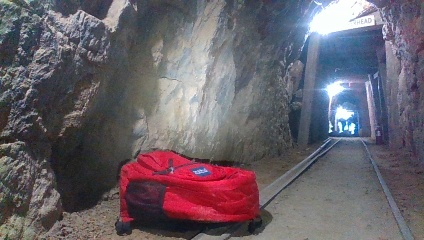backpack: (114, 149, 264, 234)
